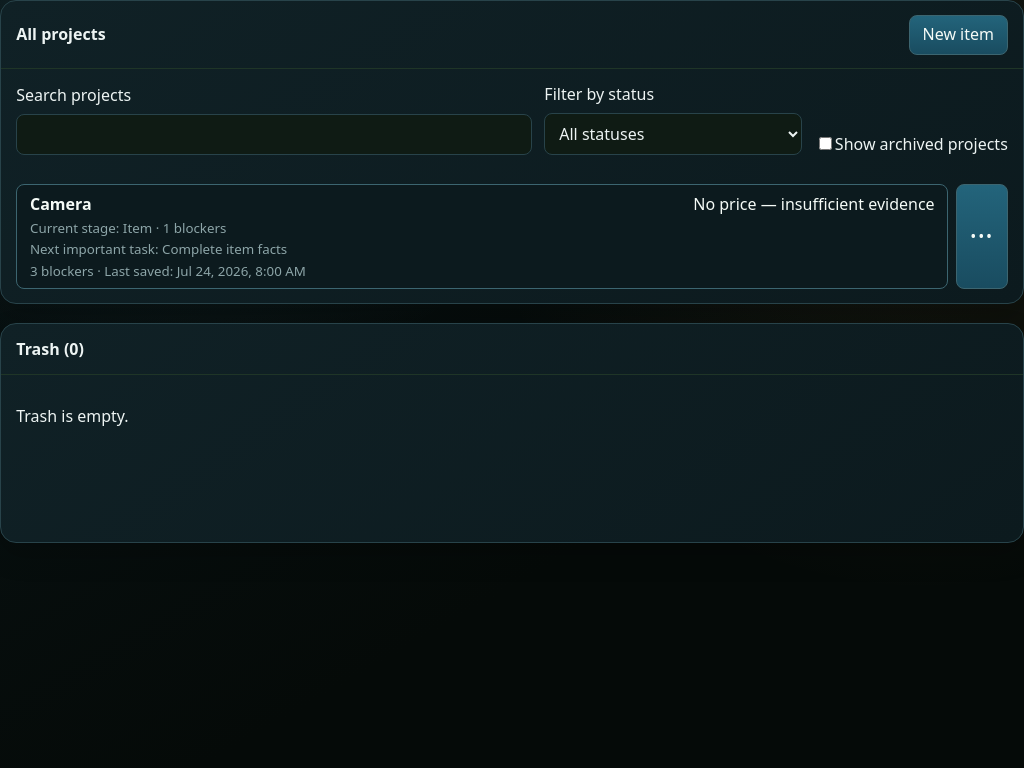
Test: ProjectDashboard › supports focus entry, arrow navigation, and Escape in project action menus
Click the button "•••".
click(982, 237)  # box [956,184,1008,289]
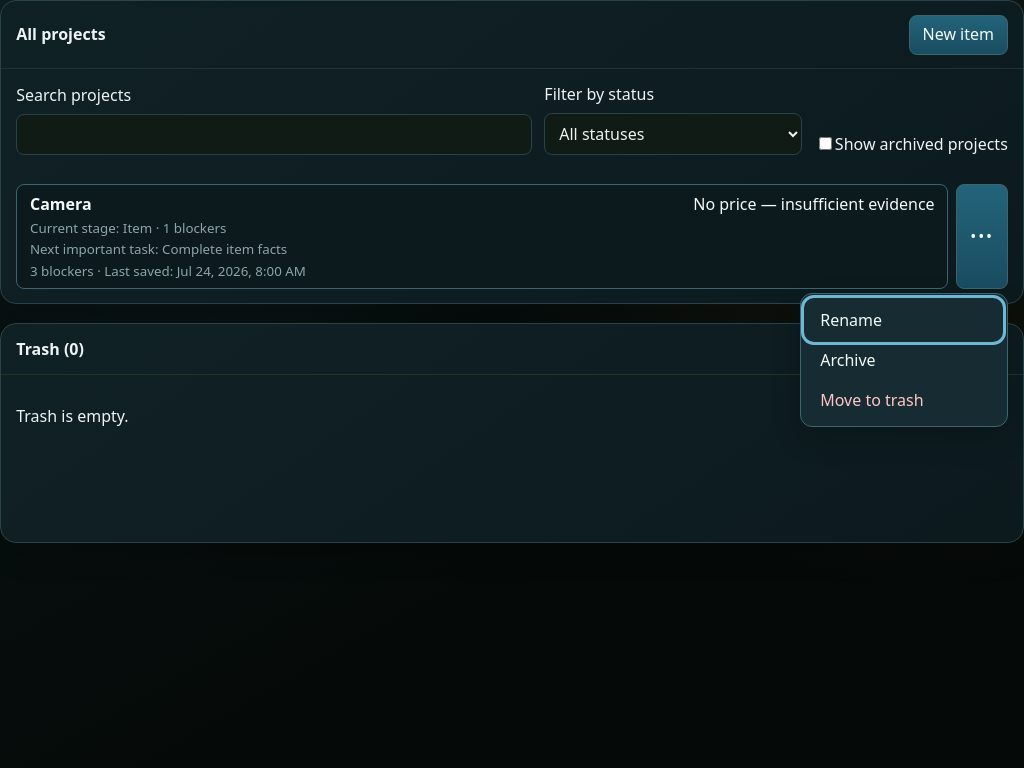
Press Arrowdown
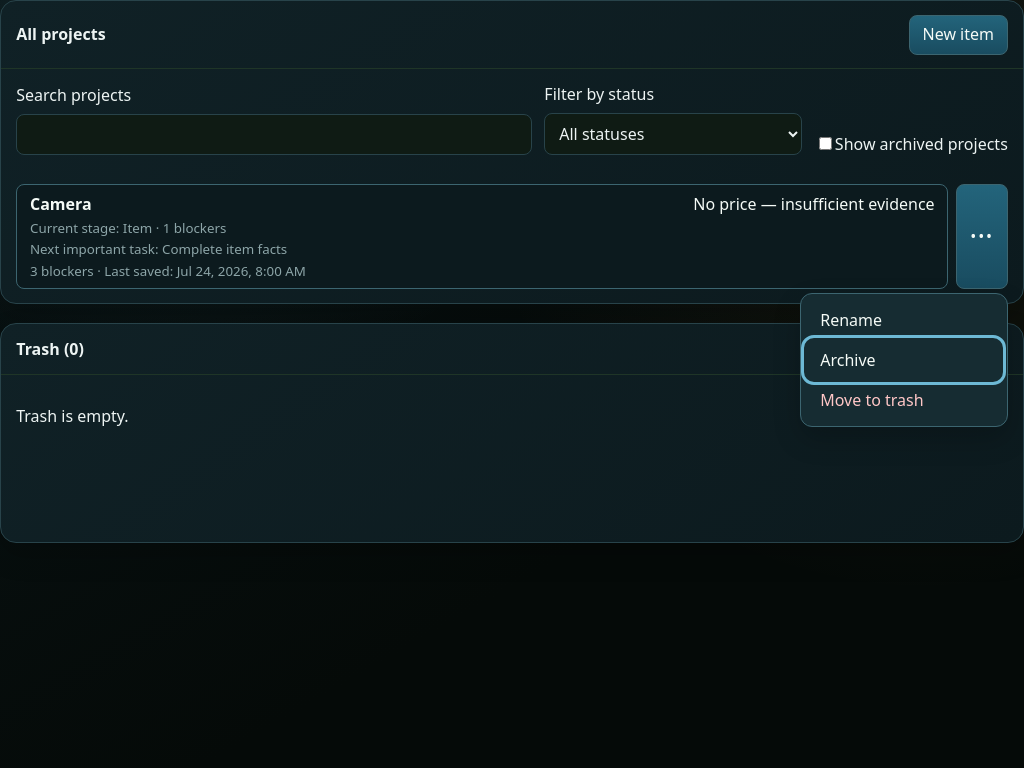
Press Escape
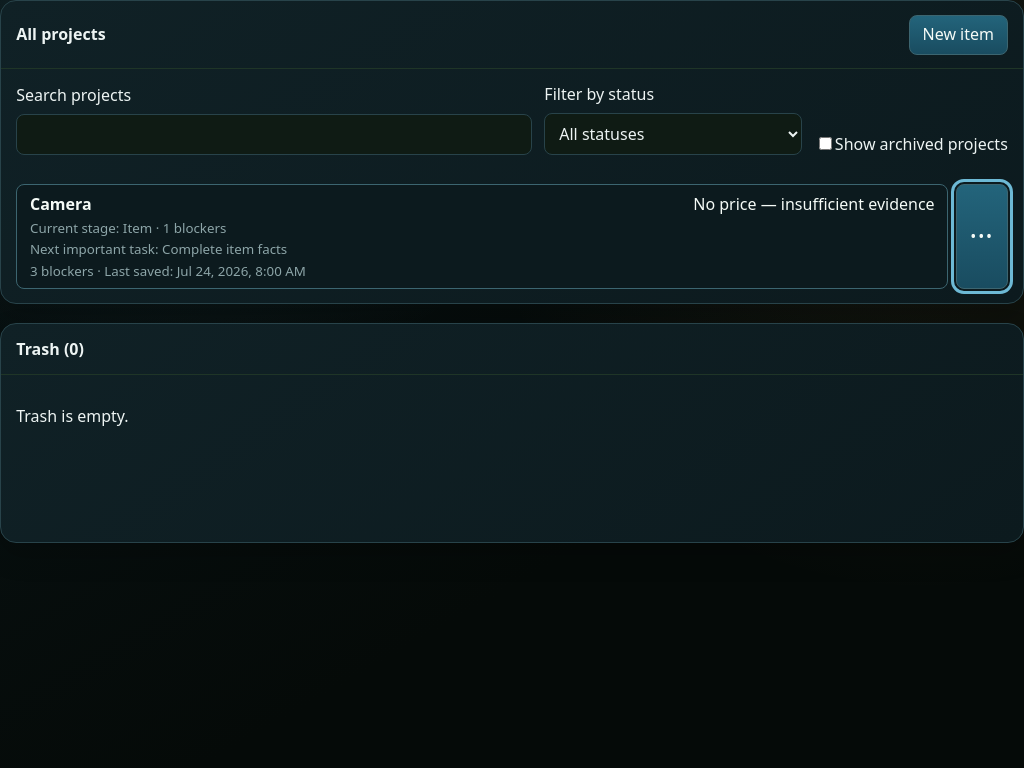
Result: the menu is gone
